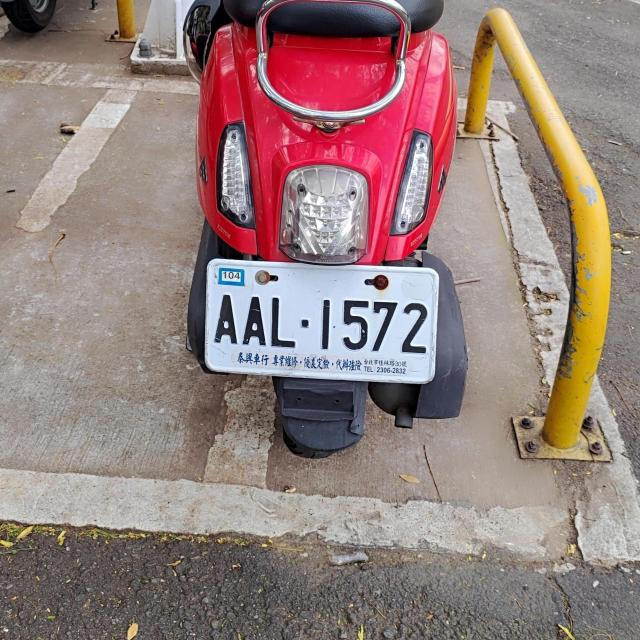W: (202, 261, 440, 382)
